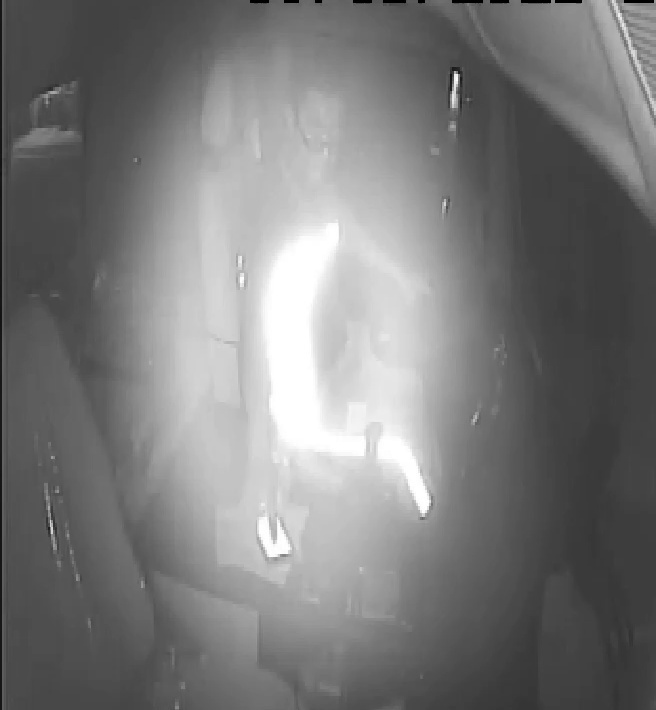cellphone: (252, 507, 298, 564)
